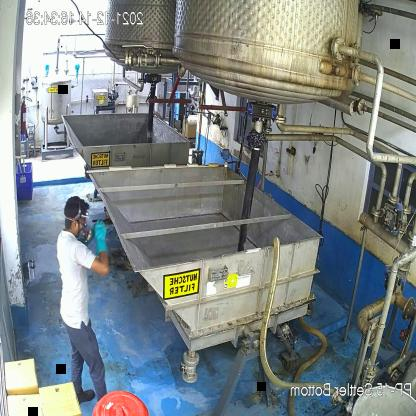mask: (71, 223, 93, 243)
